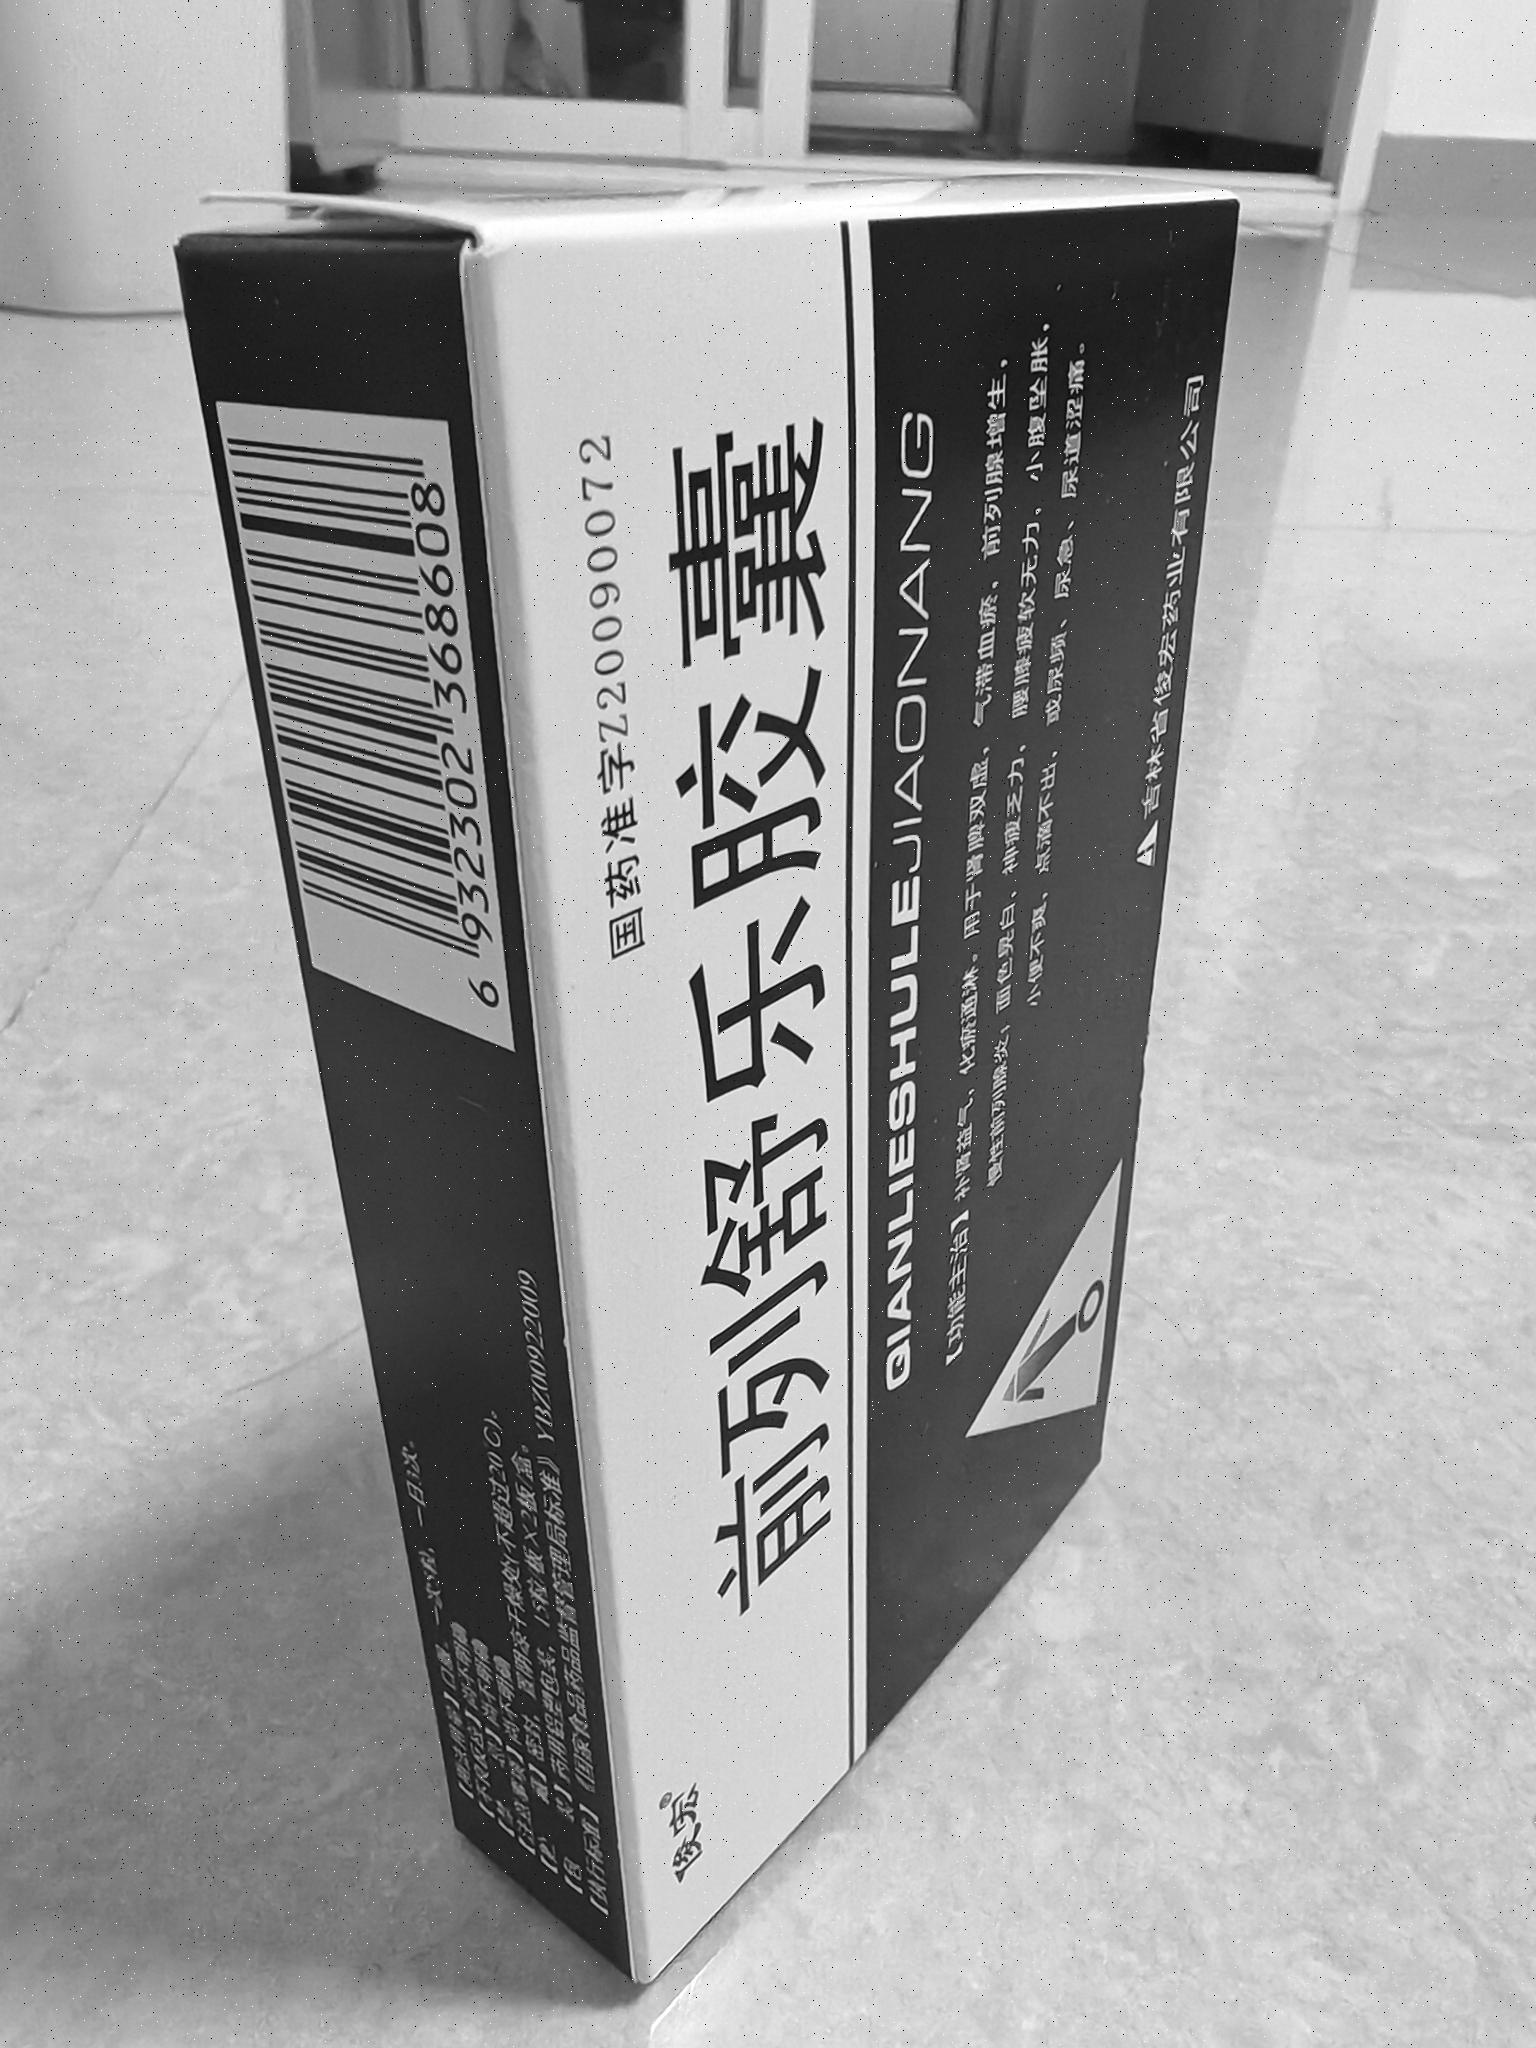Medicine2: (158, 150, 1275, 2001)
